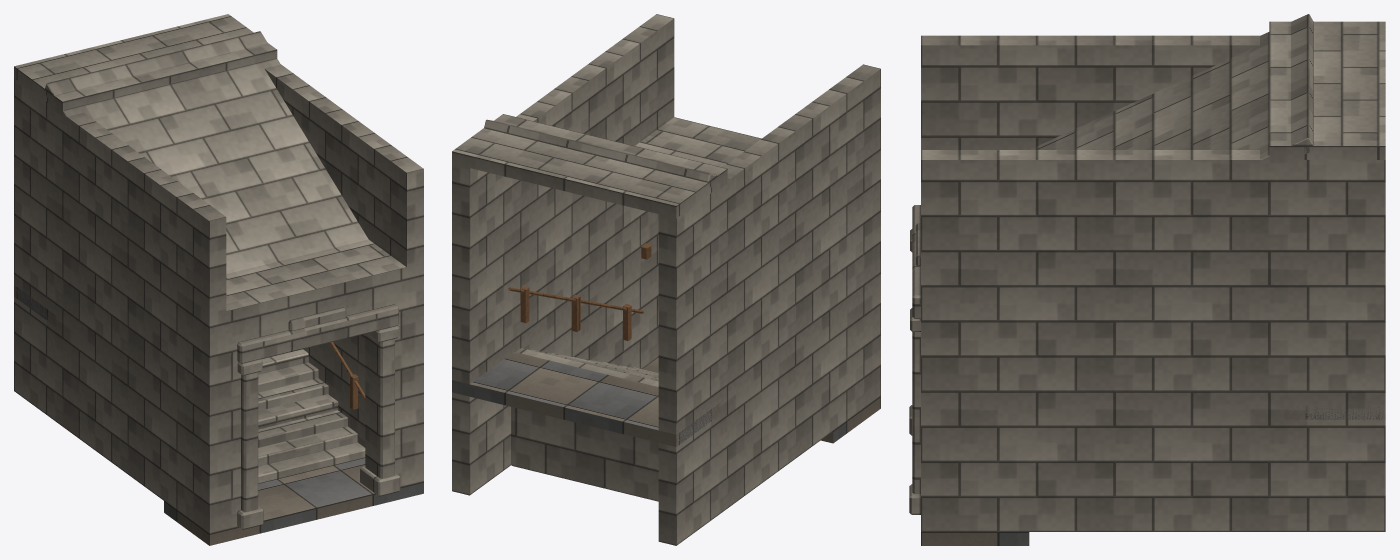
File: MOD_Stairs.fbx
3 renders of one model, left to right at view 1: azimuth 30°, elevation 25°; view 2: azimuth 150°, elevation 25°; view 3: azimuth 270°, elevation 25°, orthographic. The views are drawn at different scales.
Parts seen in each view (by area): view 1: Wall.002, Ceiling_Slope, Wall.003, Portal_Frame.003, Ceiling_Upper, Stairs_Steps, Ceiling_Lower, Floor_Lower, Portal_Side_L.003, Portal_Side_R.003, Portal_Head.003, Floor_Upper (+1 smaller); view 2: Wall.002, Wall.003, Ceiling_Upper, Floor_Upper, Stairs_Steps, Ceiling_Slope, Ceiling_Lower, Stairs_Rail, Floor_Lower; view 3: Wall.003, Wall.002, Ceiling_Slope, Ceiling_Upper, Portal_Frame.003, Ceiling_Lower, Floor_Lower, Floor_Upper.
Boxes of the visible parts, bbox=[...] form: Wall.002: bbox=[14, 78, 226, 533]; Ceiling_Slope: bbox=[44, 31, 368, 309]; Wall.003: bbox=[265, 64, 423, 485]; Portal_Frame.003: bbox=[237, 304, 400, 529]; Ceiling_Upper: bbox=[14, 14, 277, 111]; Stairs_Steps: bbox=[258, 349, 365, 483]; Ceiling_Lower: bbox=[157, 239, 406, 327]; Floor_Lower: bbox=[164, 458, 423, 545]; Portal_Side_L.003: bbox=[226, 316, 254, 529]; Portal_Side_R.003: bbox=[378, 279, 406, 487]; Portal_Head.003: bbox=[254, 286, 378, 337]; Floor_Upper: bbox=[14, 285, 56, 326]; Wall.002: bbox=[658, 64, 880, 545]; Wall.003: bbox=[452, 14, 674, 495]; Ceiling_Upper: bbox=[452, 114, 727, 218]; Floor_Upper: bbox=[452, 352, 720, 446]; Stairs_Steps: bbox=[511, 348, 658, 501]; Ceiling_Slope: bbox=[484, 119, 848, 205]; Ceiling_Lower: bbox=[635, 117, 880, 217]; Stairs_Rail: bbox=[508, 286, 643, 340]; Floor_Lower: bbox=[642, 357, 880, 443]; Wall.003: bbox=[921, 150, 1385, 531]; Wall.002: bbox=[921, 35, 1259, 149]; Ceiling_Slope: bbox=[992, 14, 1314, 292]; Ceiling_Upper: bbox=[1269, 21, 1385, 159]; Portal_Frame.003: bbox=[909, 205, 920, 514]; Ceiling_Lower: bbox=[921, 272, 1044, 286]; Floor_Lower: bbox=[921, 532, 1029, 545]; Floor_Upper: bbox=[1285, 405, 1385, 419].
Bounding box in the file's own units: 3.8 × 5.81 × 6.15.
